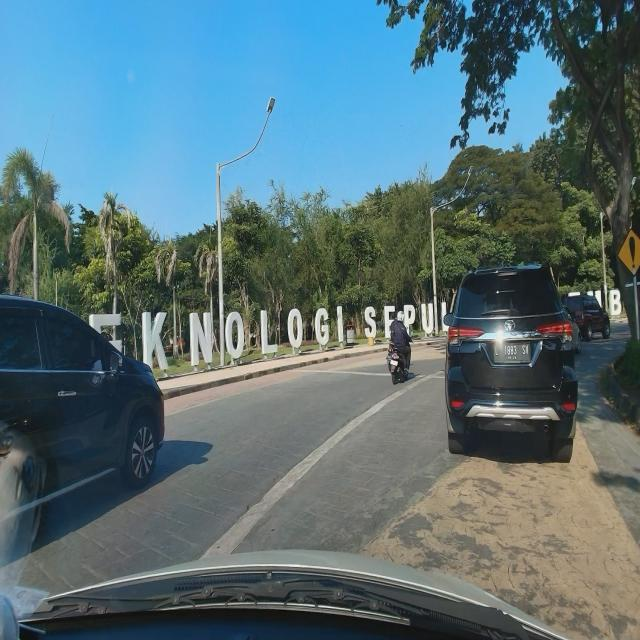car: (434, 259, 585, 465)
license-plate: (494, 342, 530, 364)
